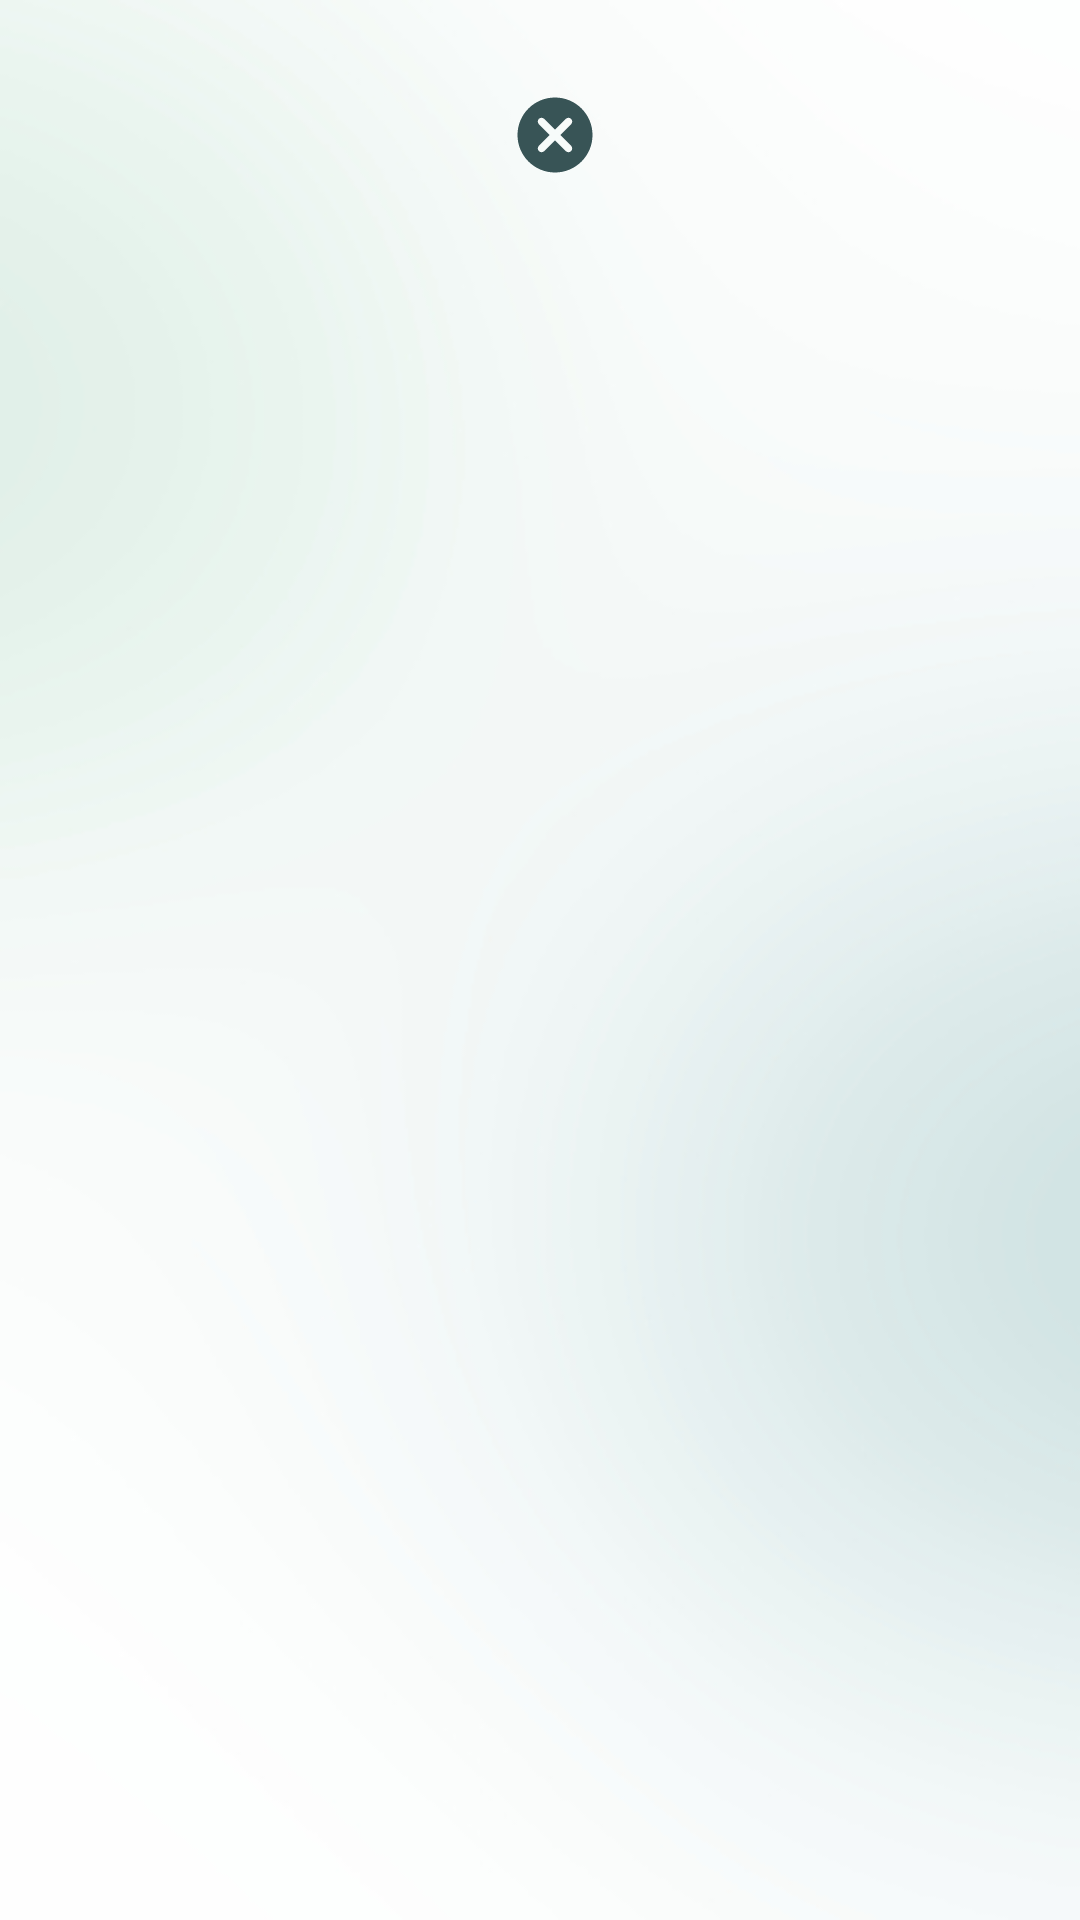

Screen size 1080px×1920px. Icon name, then its center in pixels as point (x, y):
cancel: point (555, 135)
